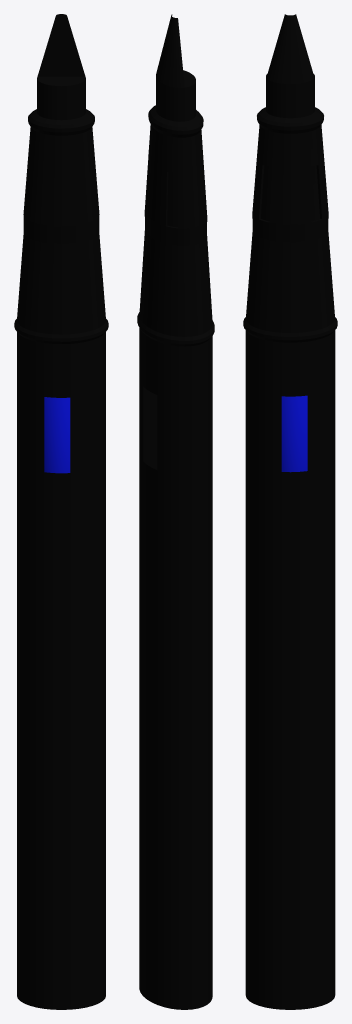
Rendered from Füller.fbx.
3 views of the same model, side by side, from view 1: azimuth 90°, elevation 25°; view 2: azimuth 210°, elevation 25°; view 3: azimuth 270°, elevation 25° (orthographic).
Parts seen in each view (by area): view 1: Cylinder, Cylinder.001; view 2: Cylinder; view 3: Cylinder, Cylinder.001.
Boxes of the visible parts, bbox=[...] form: Cylinder: bbox=[14, 14, 108, 1009]; Cylinder.001: bbox=[44, 397, 70, 473]; Cylinder: bbox=[137, 14, 214, 1009]; Cylinder: bbox=[243, 14, 337, 1009]; Cylinder.001: bbox=[281, 395, 307, 472].
Size of the model in its own units: 0.0384 by 0.5797 by 0.0506.
